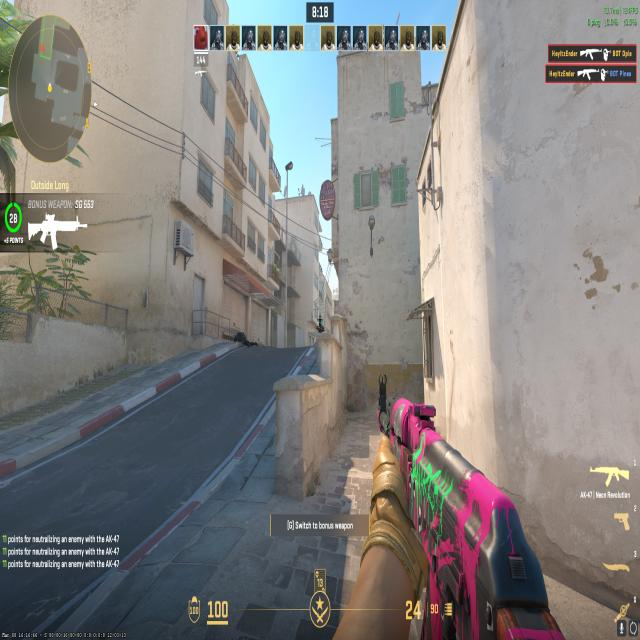ct: (315, 318, 326, 335)
